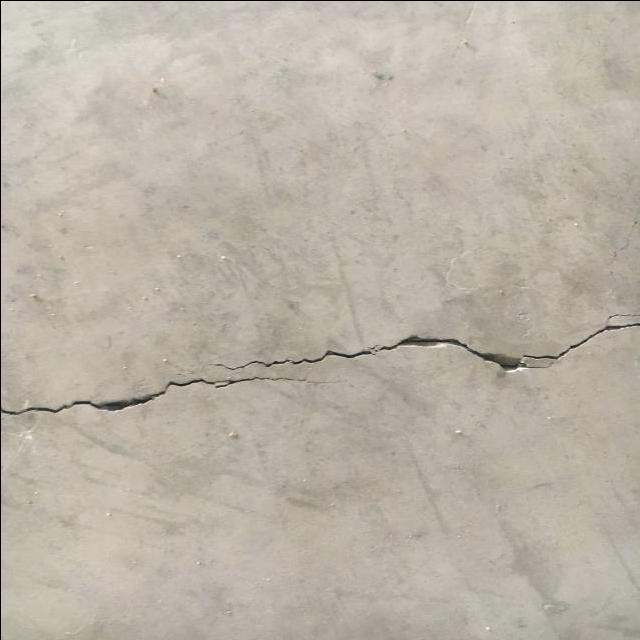SurfaceCrack: (0, 252, 639, 461)
